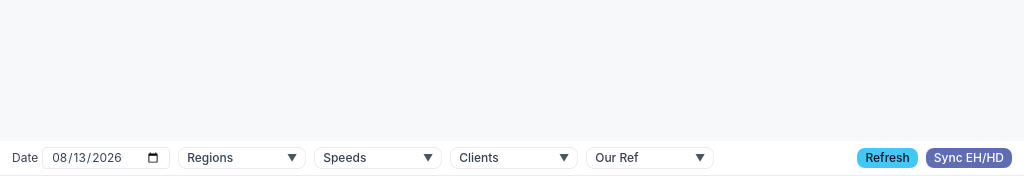
Scenario: FiltersBar › narrows the option list by search input
(page scrolled)
Click the button "Clients ▼".
click(514, 158)  # box left=450, top=147, right=578, bottom=169
(page scrolled)
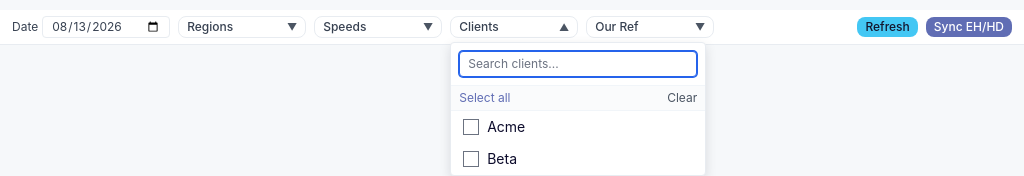
Type "acm" into the field with placeholder "Search clients...".
click(578, 64); type("acm")  # box left=459, top=51, right=697, bottom=77
(page scrolled)
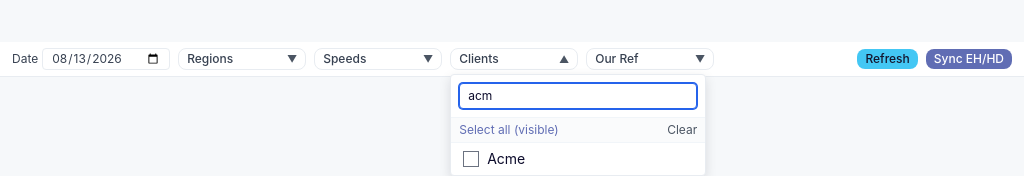
Expected: the text "Acme" is shown, left=487, top=150, right=525, bottom=167
Expected: the text "Beta" is gone
